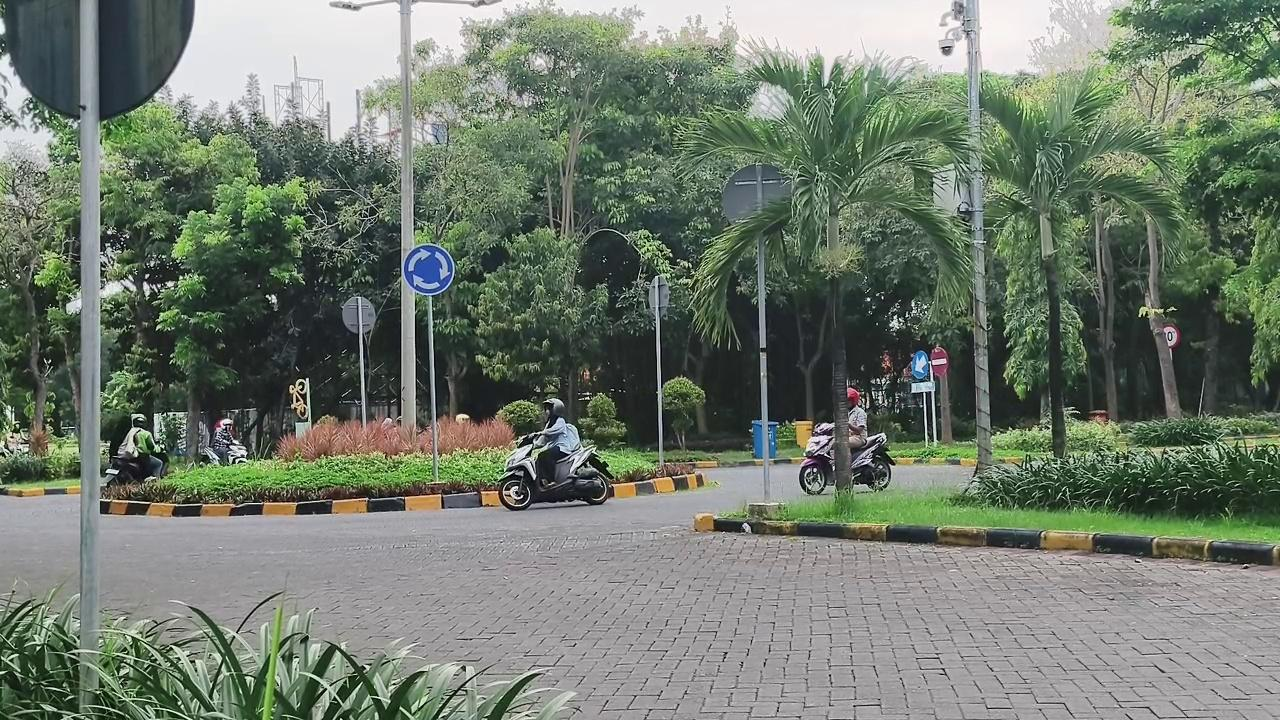Helmet: (534, 398, 580, 486), (118, 415, 163, 477), (848, 388, 867, 452), (210, 418, 234, 464)
Motor: (499, 437, 613, 510), (799, 423, 834, 494), (105, 454, 151, 486), (201, 441, 248, 465)
